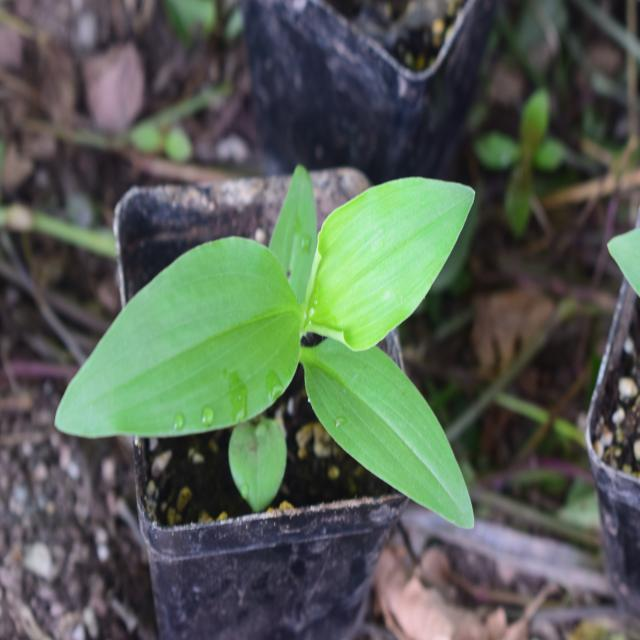Common Dayflower: (90, 182, 501, 548)
